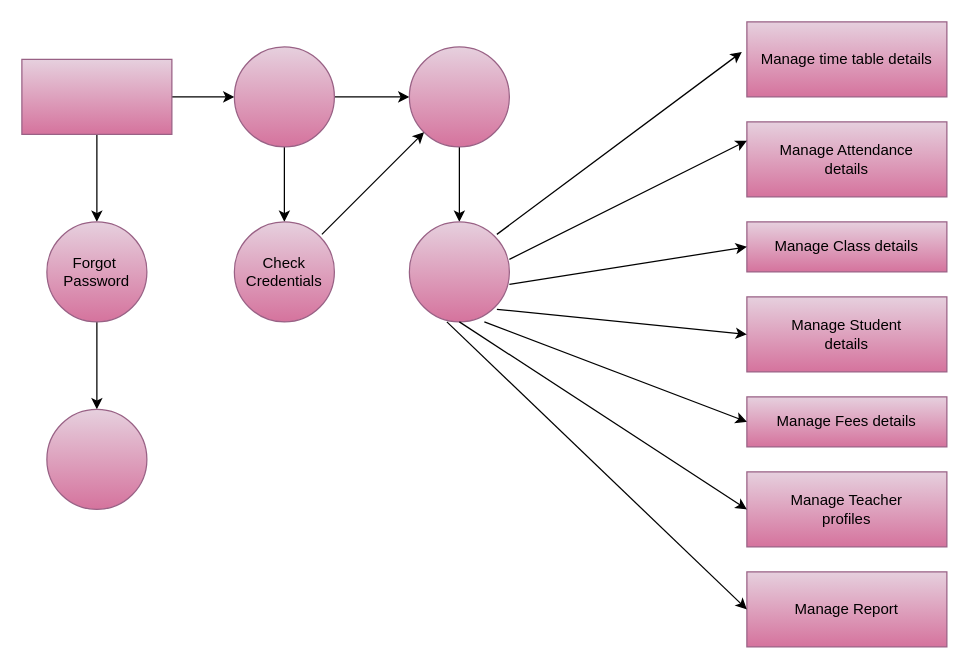
Some shapes in this 969 by 669 pixel diagram are drawn without their labels. The shapes that lost their labels are listed below. From the top down, each one's centre as x and y in pixels, then its label:
[96,96]: Admin
[283,96]: Login to System
[458,96]: Check Roles of Access
[458,271]: Manage modules
[96,458]: Send Email to the user
